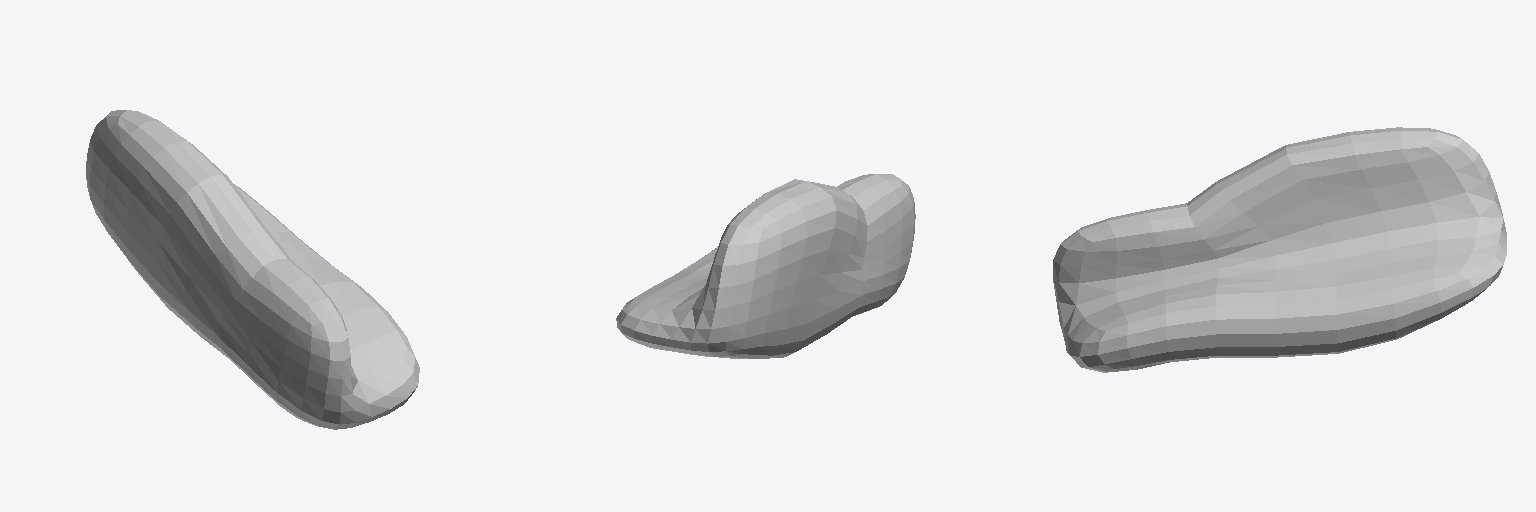
File: couch2.obj
3 views of the same model, side by side, from view 1: azimuth 30°, elevation 25°; view 2: azimuth 150°, elevation 25°; view 3: azimuth 270°, elevation 25° (orthographic).
Visible parts, largest first — view 1: Cube; view 2: Cube; view 3: Cube.
Boxes of the visible parts, box(x1,y1,x2,y2) form: Cube: box(86, 110, 419, 429); Cube: box(616, 174, 915, 358); Cube: box(1053, 127, 1506, 372).
Bounding box in the file's own units: 2.08 × 2.57 × 5.16.